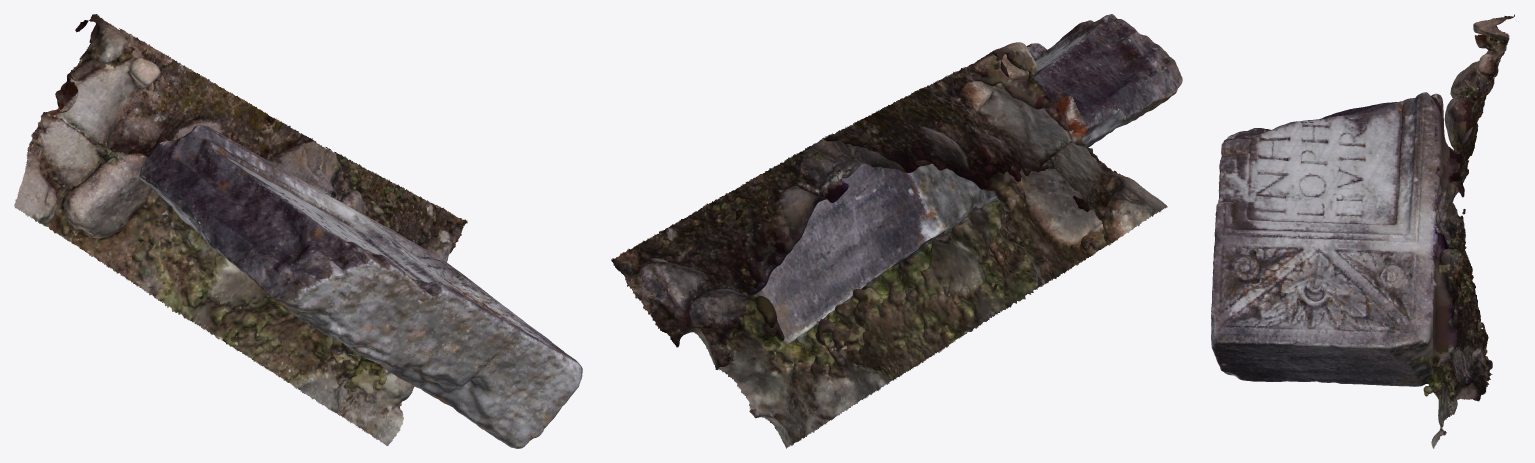
File: Tombstone.fbx
The picture shows the model from 3 angles, left to right: view 1: azimuth 30°, elevation 25°; view 2: azimuth 150°, elevation 25°; view 3: azimuth 270°, elevation 25°; orthographic projection. The views are drawn at different scales.
Parts seen in each view (by area): view 1: Mesh[33.segmented] (level 9).remaining.segmented; view 2: Mesh[33.segmented] (level 9).remaining.segmented; view 3: Mesh[33.segmented] (level 9).remaining.segmented.
Boxes of the visible parts, x1,y1,x2,y2 form: Mesh[33.segmented] (level 9).remaining.segmented: [14, 14, 582, 448]; Mesh[33.segmented] (level 9).remaining.segmented: [611, 14, 1182, 448]; Mesh[33.segmented] (level 9).remaining.segmented: [1211, 14, 1514, 448].
Bounding box in the file's own units: 1.44 × 1.31 × 1.07.
